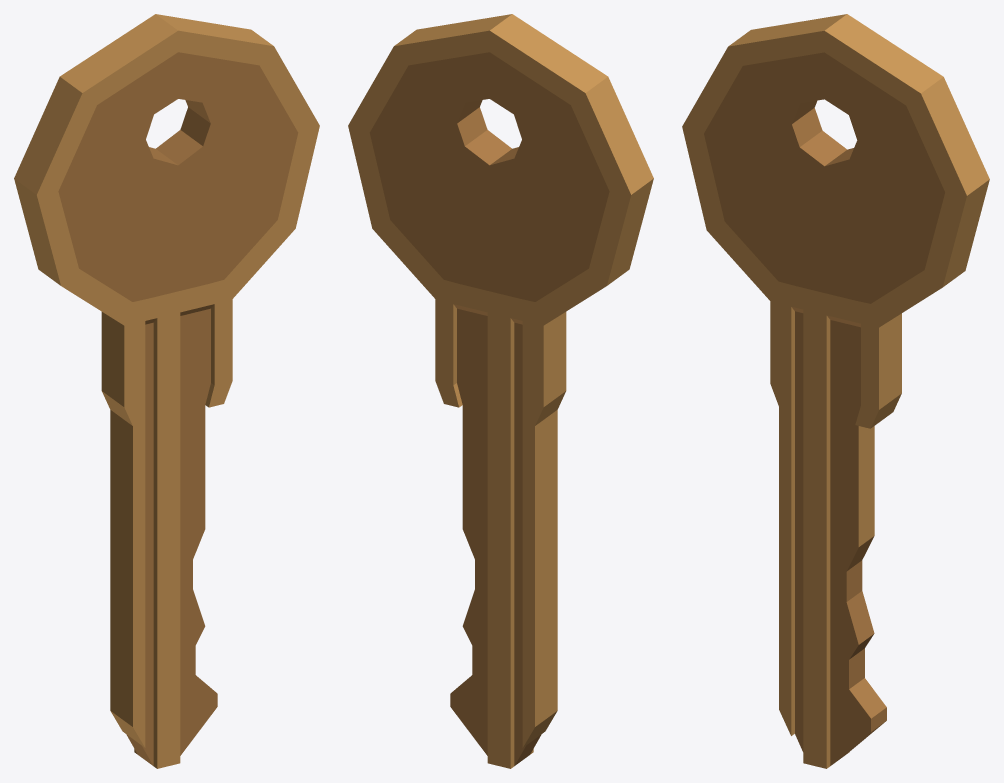
Rendered from SM_Icon_Key_01.fbx.
3 views of the same model, side by side, from view 1: azimuth 30°, elevation 25°; view 2: azimuth 150°, elevation 25°; view 3: azimuth 330°, elevation 25° (orthographic).
Visible parts, largest first — view 1: SM_Icon_Key_01; view 2: SM_Icon_Key_01; view 3: SM_Icon_Key_01.
Boxes of the visible parts, left/top/right/bottom form: SM_Icon_Key_01: left=14, top=14, right=319, bottom=768; SM_Icon_Key_01: left=348, top=14, right=653, bottom=768; SM_Icon_Key_01: left=682, top=14, right=989, bottom=768.
Bounding box in the file's own units: 25.11 × 62.11 × 3.49.
